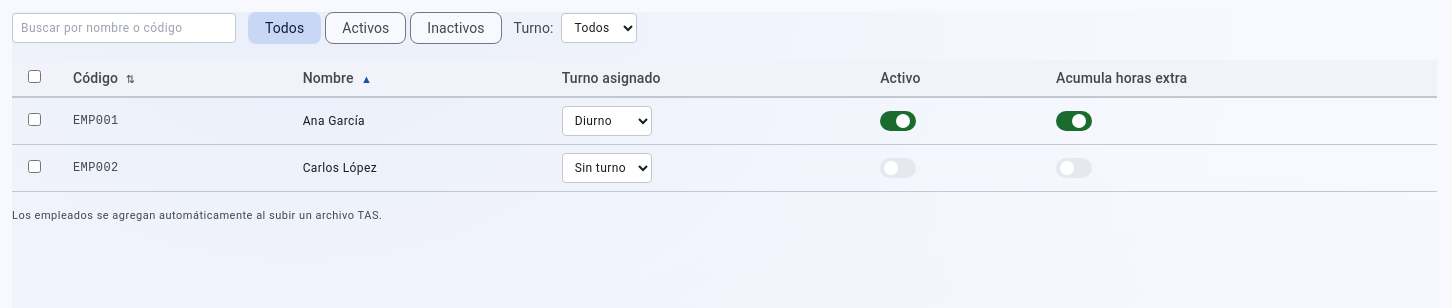
Test: EmployeesTab bulk assign › shows bulk action bar when at least one row is selected
Expected: the text "EMP001" is shown, [57,97,287,144]
Click the checkbox named "Seleccionar Ana García". click: x=34, y=119
box: [28,112,41,126]
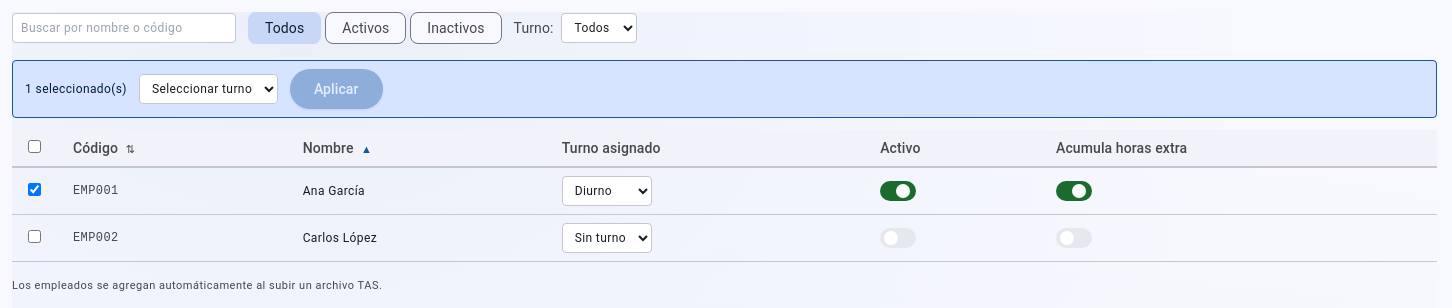
Result: the text "1 seleccionado(s)" is shown at [25,81,127,97]
